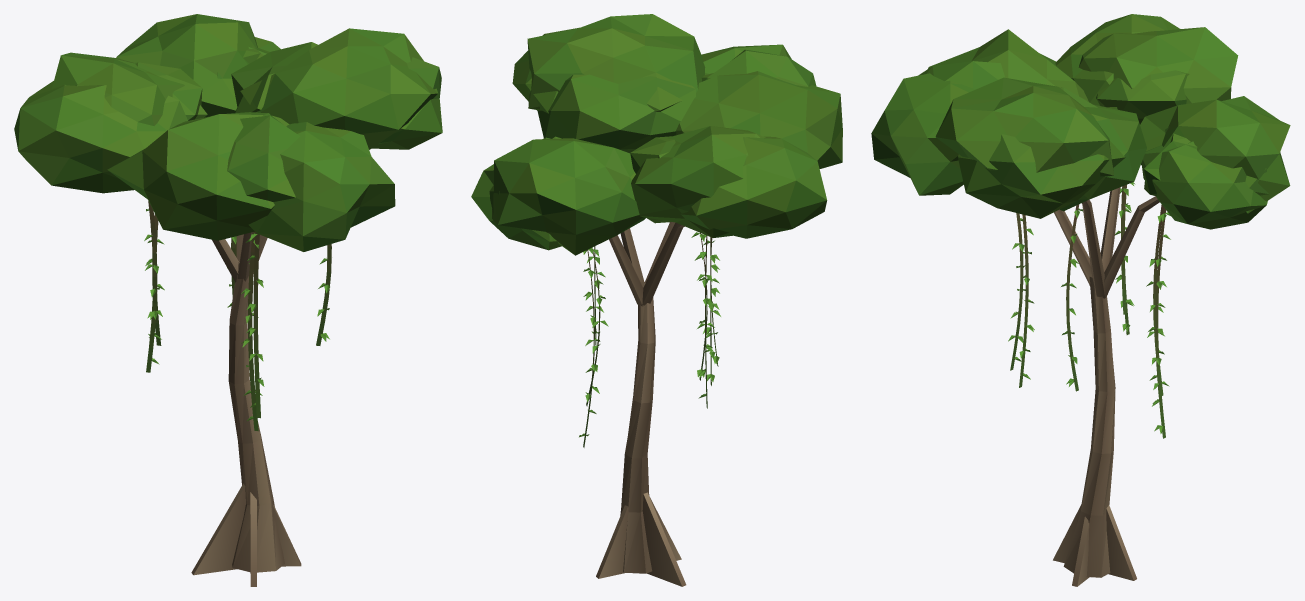
Rendered from canopy_vines.glb.
3 renders of one model, left to right at view 1: azimuth 30°, elevation 25°; view 2: azimuth 150°, elevation 25°; view 3: azimuth 270°, elevation 25°, orthographic. The views are drawn at different scales.
Visible parts, largest first — view 1: canopy_vines_leafy, canopy_vines_solid, canopy_vines_leaf; view 2: canopy_vines_leafy, canopy_vines_solid, canopy_vines_leaf; view 3: canopy_vines_leafy, canopy_vines_solid, canopy_vines_leaf.
Boxes of the visible parts, x1,y1,x2,y2 form: canopy_vines_leafy: (14,14,442,251); canopy_vines_solid: (191,232,301,586); canopy_vines_leaf: (144,201,331,431); canopy_vines_leafy: (471,14,842,255); canopy_vines_solid: (596,222,686,586); canopy_vines_leaf: (579,232,720,447); canopy_vines_leafy: (871,14,1290,229); canopy_vines_solid: (1053,187,1159,586); canopy_vines_leaf: (1008,182,1170,438).
Size of the model in its own units: 9.41 by 12.65 by 9.52.
